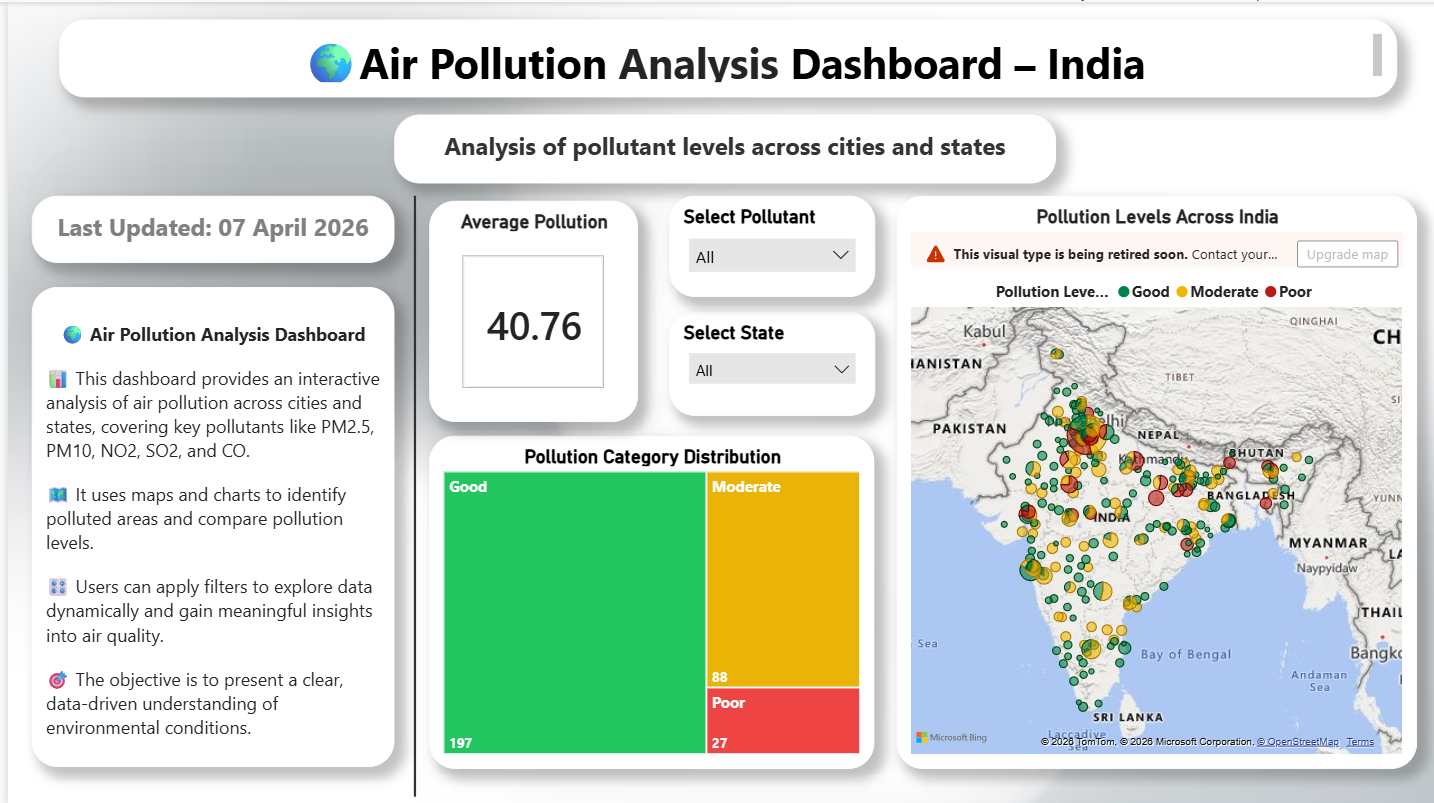

Layout of this report page (visuals, bound fields, positions):
{"tool":"powerbi","page":{"name":"Page 1","canvas":[1280,720],"ordinal":0},"visuals":[{"type":"textbox","box":[45.9,15.3,1195.1,69.6],"z":1000},{"type":"textbox","box":[345,100.2,591.3,61.2],"z":2000},{"type":"map","title":"Pollution Levels Across India","fields":{"Category":["AQI of different cities in INDIA.City"],"Series":["AQI of different cities in INDIA.Pollution Level Category"],"Size":["Sum(AQI of different cities in INDIA.Avg Pollution)"]},"box":[794.4,172.5,464.7,512],"z":3000},{"type":"slicer","title":"Select State","fields":{"Values":["AQI of different cities in INDIA.State"]},"box":[590.2,277,184.3,92.7],"z":4000},{"type":"slicer","title":"Select Pollutant","fields":{"Values":["AQI of different cities in INDIA.Pollutant"]},"box":[590.2,173,184.3,90.5],"z":5000},{"type":"treemap","title":"Pollution Category Distribution","fields":{"Group":["AQI of different cities in INDIA.Pollution Level Category"],"Values":["Count(AQI of different cities in INDIA.City)"]},"box":[376.5,387.8,398,297.4],"z":6000},{"type":"textbox","box":[20.9,172.5,324.2,59.8],"z":7000},{"type":"textbox","box":[20.9,254.6,324.2,428.5],"z":8000},{"type":"shape","box":[212.9,172.5,300.5,537],"z":9000},{"type":"cardVisual","title":"Average Pollution","fields":{"Data":["Avg(AQI of different cities in INDIA.Avg Pollution)"]},"box":[376.5,177.5,186.6,197.9],"z":10000}]}

Visuals, with their boxes in screenshot pixels (x1, y1, x2, y2), scaled from the page's 1280x720 canvas onto the 1434x803 screenshot:
textbox: locate(51, 17, 1390, 95)
textbox: locate(387, 112, 1049, 180)
"Pollution Levels Across India" map: locate(890, 192, 1411, 763)
"Select State" slicer: locate(661, 309, 868, 412)
"Select Pollutant" slicer: locate(661, 193, 868, 294)
"Pollution Category Distribution" treemap: locate(422, 433, 868, 764)
textbox: locate(23, 192, 387, 259)
textbox: locate(23, 284, 387, 762)
shape: locate(239, 192, 575, 791)
"Average Pollution" cardVisual: locate(422, 198, 631, 419)
